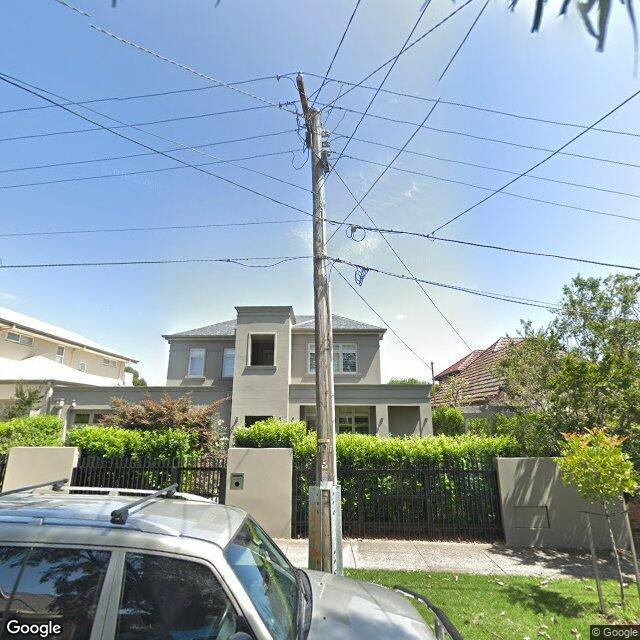crossarm: (277, 70, 353, 170)
timber-pole: (310, 107, 340, 574)
